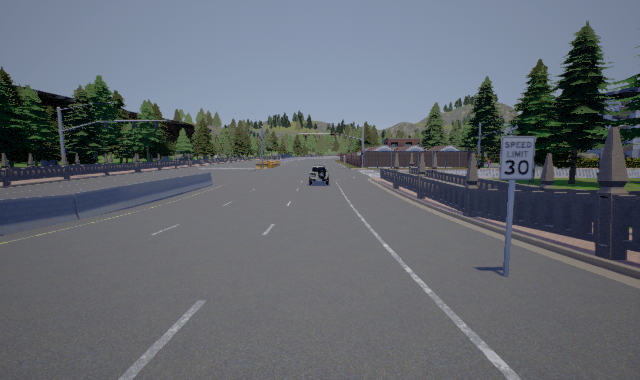traffic_light: (361, 150, 363, 155), (305, 134, 307, 139)
traffic_sign: (499, 136, 536, 180)
vehicle: (309, 164, 329, 185)
